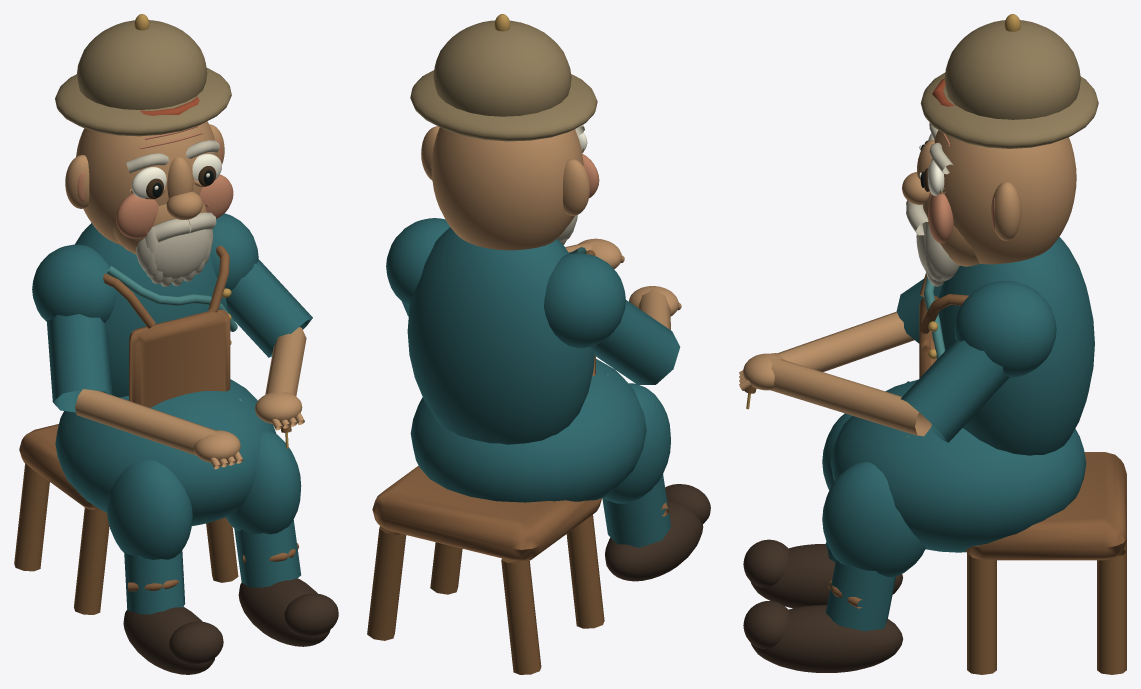
File: craftsman.glb
3 renders of one model, left to right at view 1: azimuth 30°, elevation 25°; view 2: azimuth 150°, elevation 25°; view 3: azimuth 270°, elevation 25°, orthographic. The views are drawn at different scales.
Visible parts, largest first — view 1: craftsman_Deel_teal, craftsman_head_Hat_felt, craftsman_Leather, craftsman_Boot_leather, craftsman_head_Skin_warm, craftsman_Bench_walnut, stitch_arm_Deel_teal, craftsman_Skin_warm, craftsman_head_Hair_silver, stitch_arm_Skin_warm, craftsman_head_Skin_cheek, craftsman_Deel_edge (+1 smaller); view 2: craftsman_Deel_teal, craftsman_head_Hat_felt, craftsman_head_Skin_warm, craftsman_Leather, craftsman_Bench_walnut, craftsman_Boot_leather, stitch_arm_Deel_teal, craftsman_Skin_warm, stitch_arm_Skin_warm; view 3: craftsman_Deel_teal, craftsman_head_Hat_felt, craftsman_head_Skin_warm, craftsman_Boot_leather, stitch_arm_Deel_teal, craftsman_Leather, craftsman_Bench_walnut, stitch_arm_Skin_warm, craftsman_Skin_warm, craftsman_head_Hair_silver, craftsman_head_Skin_cheek, craftsman_Deel_edge.
Part boxes in pixels (box(x1,y1,x2,y2)): craftsman_Deel_teal: box(32, 223, 301, 614); craftsman_head_Hat_felt: box(55, 20, 231, 136); craftsman_Leather: box(19, 245, 298, 591); craftsman_Boot_leather: box(123, 578, 338, 674); craftsman_head_Skin_warm: box(65, 121, 224, 254); craftsman_Bench_walnut: box(14, 463, 238, 614); stitch_arm_Deel_teal: box(210, 213, 312, 357); craftsman_Skin_warm: box(75, 389, 243, 469); craftsman_head_Hair_silver: box(126, 140, 219, 286); stitch_arm_Skin_warm: box(255, 327, 306, 430); craftsman_head_Skin_cheek: box(77, 126, 233, 238); craftsman_Deel_edge: box(106, 265, 241, 401); craftsman_Deel_teal: box(407, 227, 680, 547); craftsman_head_Hat_felt: box(410, 20, 597, 141); craftsman_head_Skin_warm: box(421, 126, 589, 250); craftsman_Leather: box(372, 250, 668, 561); craftsman_Bench_walnut: box(367, 515, 604, 674); craftsman_Boot_leather: box(605, 484, 710, 581); stitch_arm_Deel_teal: box(386, 218, 449, 316); craftsman_Skin_warm: box(629, 286, 681, 329); stitch_arm_Skin_warm: box(565, 238, 624, 268); craftsman_Deel_teal: box(822, 237, 1094, 631); craftsman_head_Hat_felt: box(920, 20, 1098, 148); craftsman_head_Skin_warm: box(902, 130, 1076, 266); craftsman_Boot_leather: box(743, 539, 902, 672); stitch_arm_Deel_teal: box(901, 281, 1056, 442); craftsman_Leather: box(828, 273, 1126, 608); craftsman_Bench_walnut: box(967, 539, 1126, 674); stitch_arm_Skin_warm: box(739, 353, 931, 436); craftsman_Skin_warm: box(771, 311, 914, 371); craftsman_head_Hair_silver: box(906, 123, 959, 286); craftsman_head_Skin_cheek: box(928, 132, 994, 243); craftsman_Deel_edge: box(906, 276, 945, 437).
Size of the model in its own units: 0.7568 by 1.62 by 0.9103.
